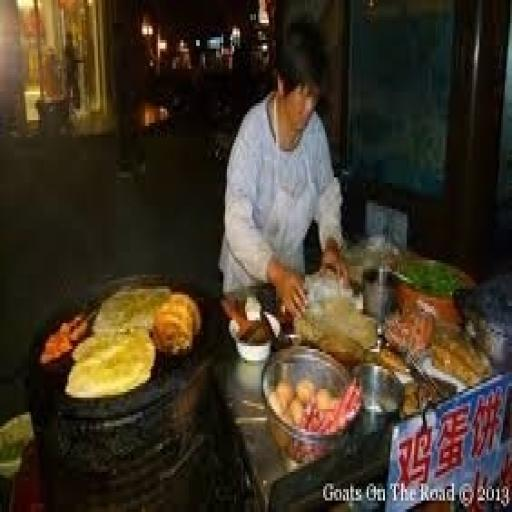eating: (216, 18, 352, 320)
